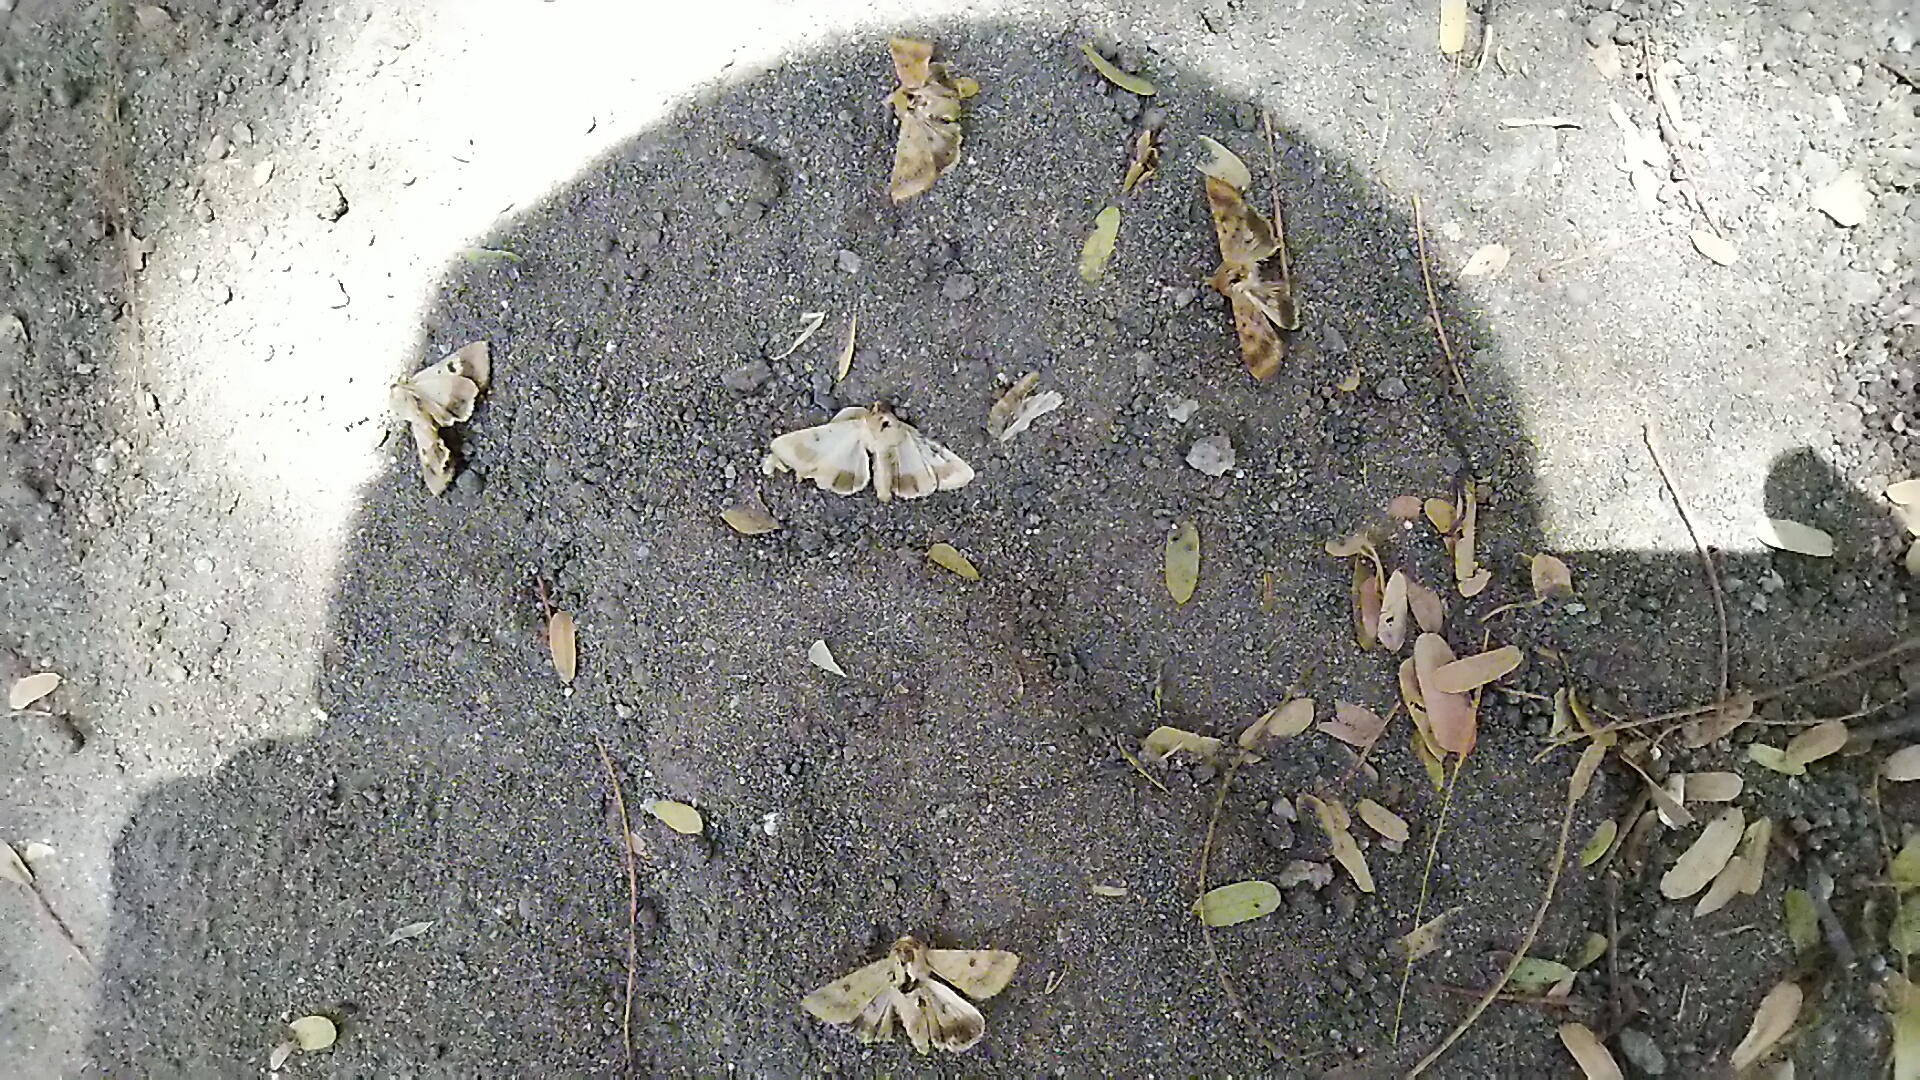INS-C: (799, 916, 1029, 1055), (760, 389, 988, 497), (1193, 175, 1309, 388), (862, 34, 989, 211), (388, 334, 492, 504)
